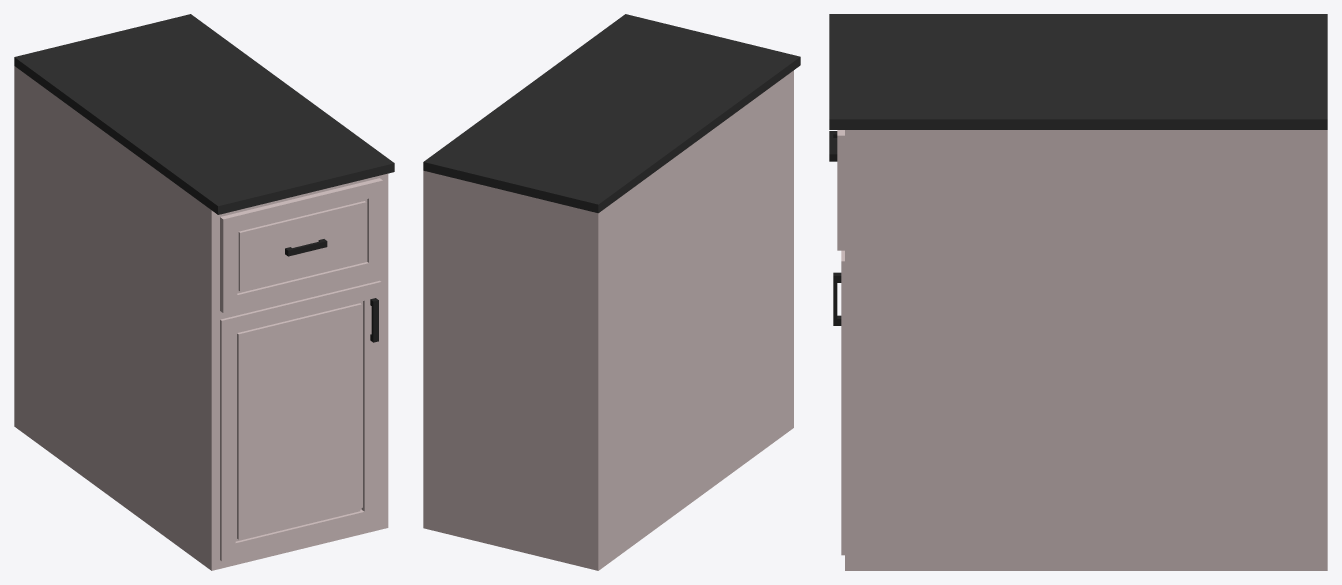
The model's file is cupboard2.obj.
3 renders of one model, left to right at view 1: azimuth 30°, elevation 25°; view 2: azimuth 150°, elevation 25°; view 3: azimuth 270°, elevation 25°, orthographic. The views are drawn at different scales.
Size of the model in its own units: 6.3 by 12.6 by 12.6.
1 material, 1 textured.
